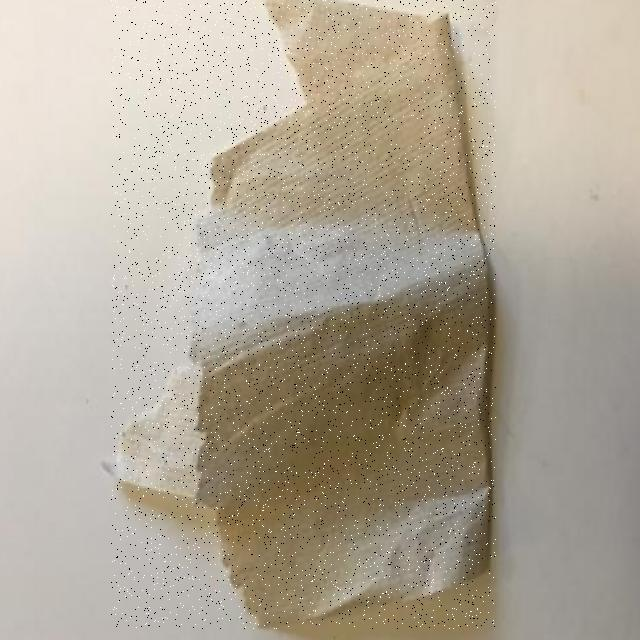paper: (112, 0, 496, 629)
